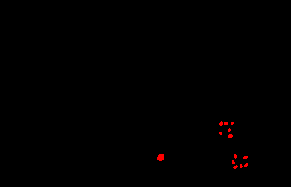Target: (157, 154, 164, 161), (219, 121, 223, 126), (228, 134, 233, 138), (233, 165, 238, 169), (244, 163, 248, 167), (234, 154, 237, 159), (243, 156, 248, 159), (224, 122, 228, 125), (228, 128, 231, 132), (232, 160, 235, 164), (240, 164, 243, 168), (231, 122, 234, 125), (219, 132, 222, 135)
